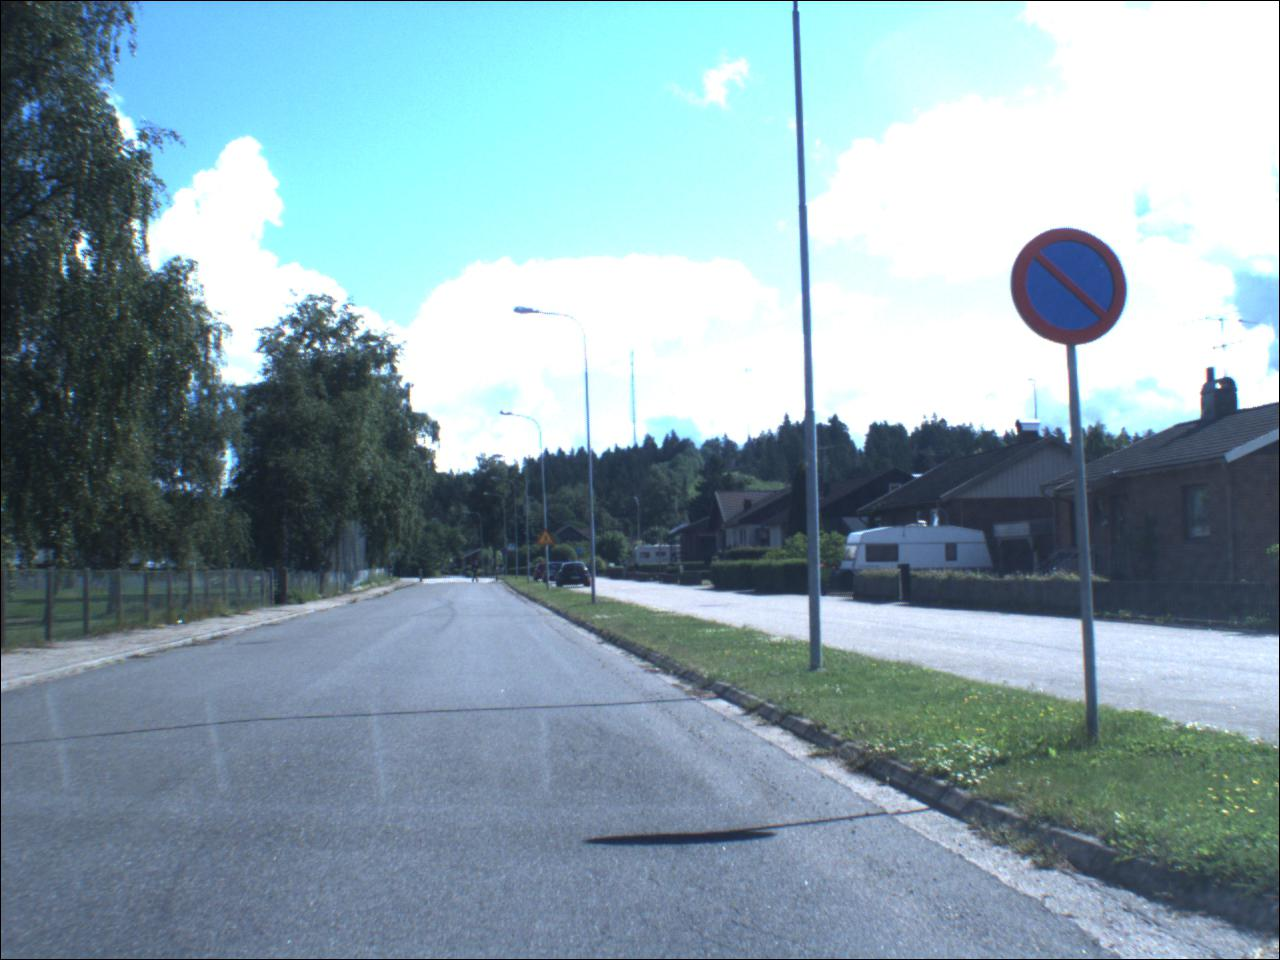NO_PARKING: (1008, 223, 1136, 349)
PEDESTRIAN_CROSSING: (509, 544, 519, 554)
WARNING_PEDESTRIANS: (539, 531, 556, 548)
